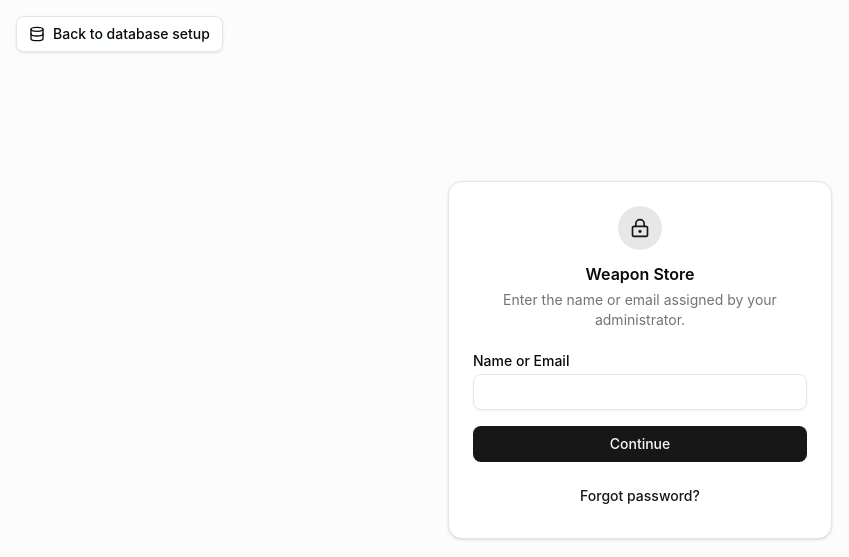
Test: AuthScreen › disables submission while resolving and advances to password sign-in once
In the field labelled "Name or Email": (640, 392) [473, 374, 807, 410], type "audit@example.com"
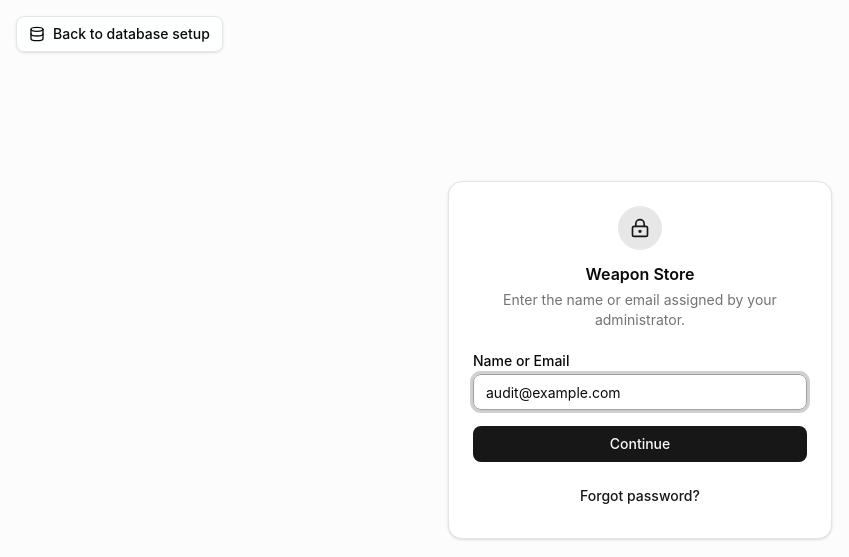
Click the button "Continue": (640, 444) [473, 426, 807, 462]
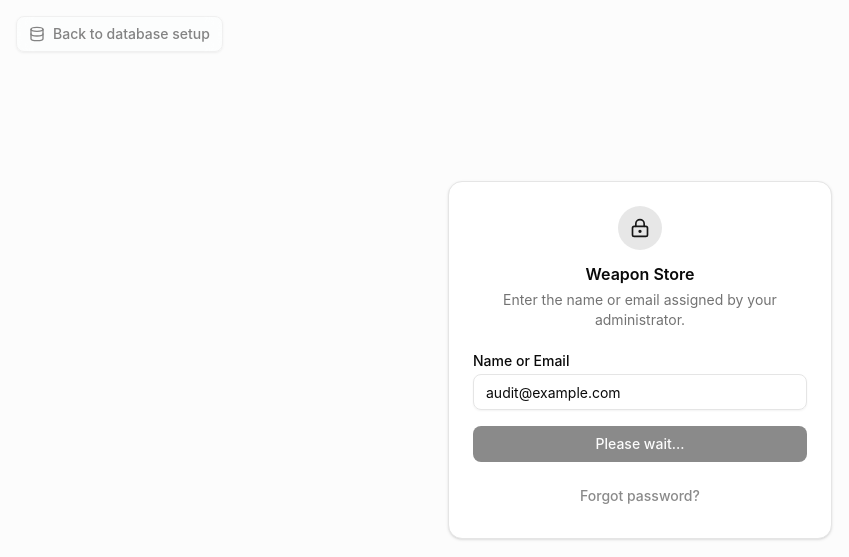
expect the button named "Continue" is disabled: met
Click the button named "Continue": (640, 444) [473, 426, 807, 462]
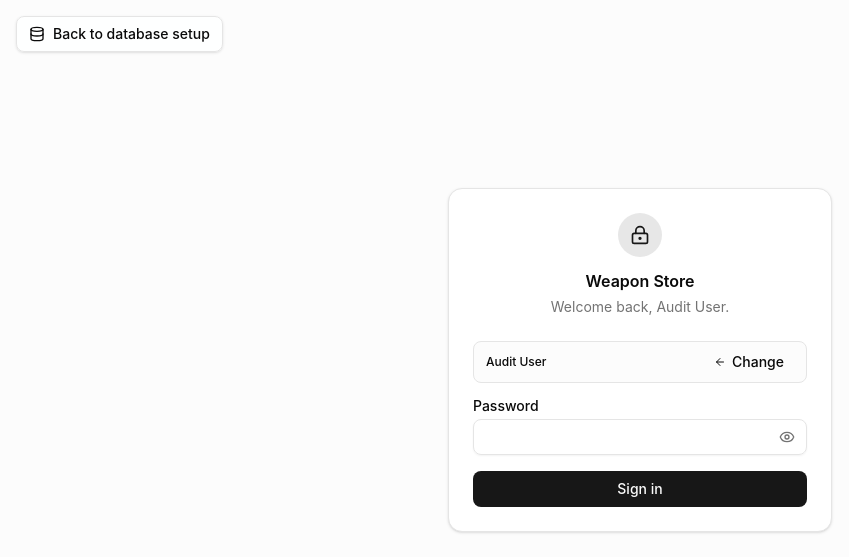
expect the button "Sign in" is enabled: met, box [473, 471, 807, 507]
